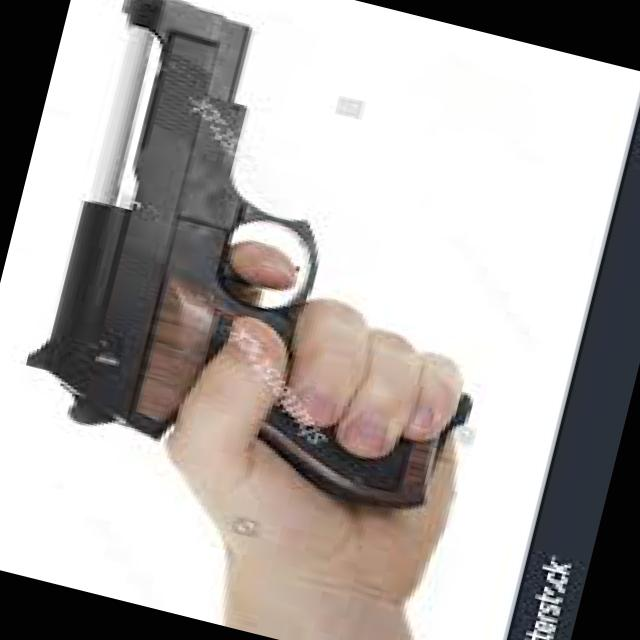handgun: (0, 0, 537, 518)
